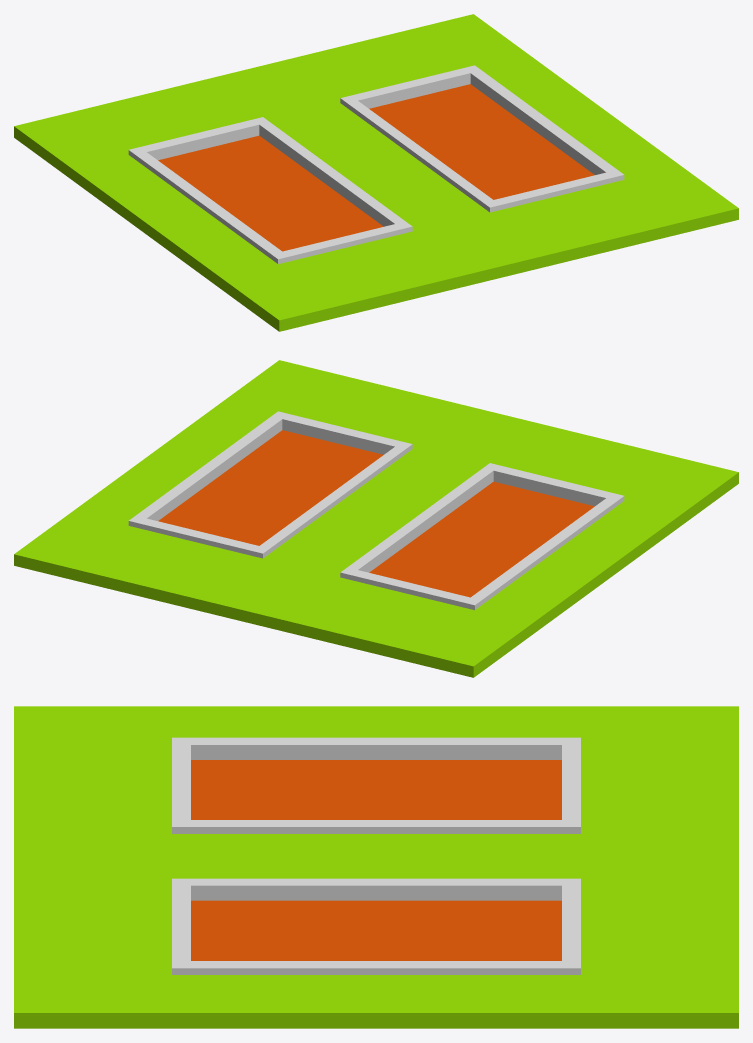
Rendered from Skylight.fbx.
3 views of the same model, one above another, from view 1: azimuth 30°, elevation 25°; view 2: azimuth 150°, elevation 25°; view 3: azimuth 270°, elevation 25° (orthographic). The views are drawn at different scales.
Parts seen in each view (by area): view 1: Skylight; view 2: Skylight; view 3: Skylight.
Part boxes in pixels (bbox=[...]): Skylight: bbox=[14, 14, 738, 331]; Skylight: bbox=[14, 360, 738, 677]; Skylight: bbox=[14, 706, 738, 1028].
Bounding box in the file's own units: 21 × 0.9306 × 21.
